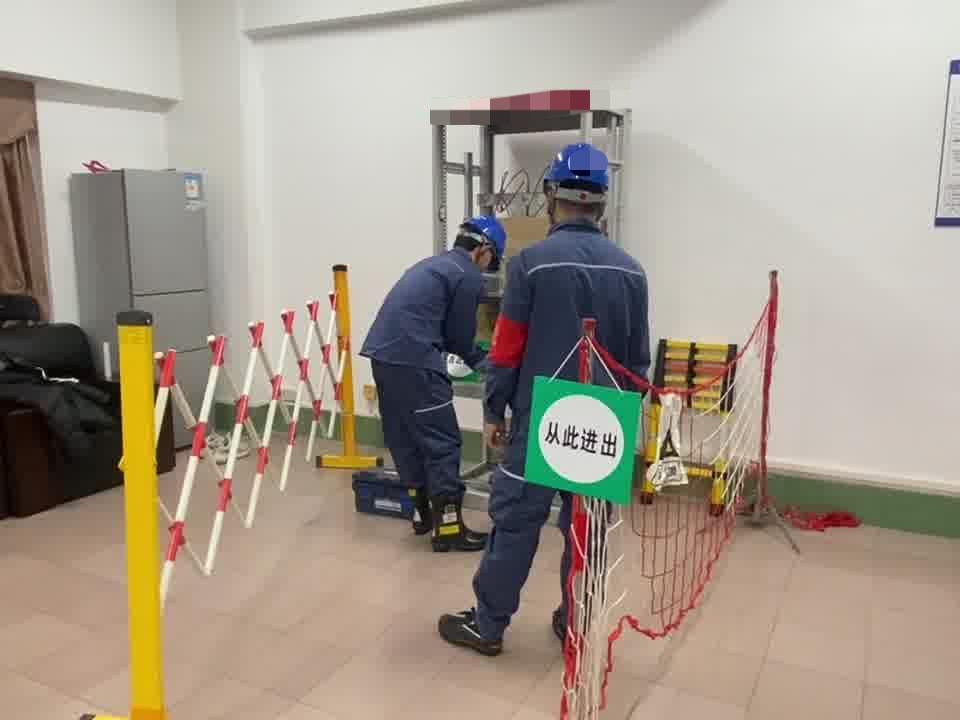halt: (543, 145, 615, 225), (459, 218, 511, 275)
inear: (475, 245, 497, 272)
